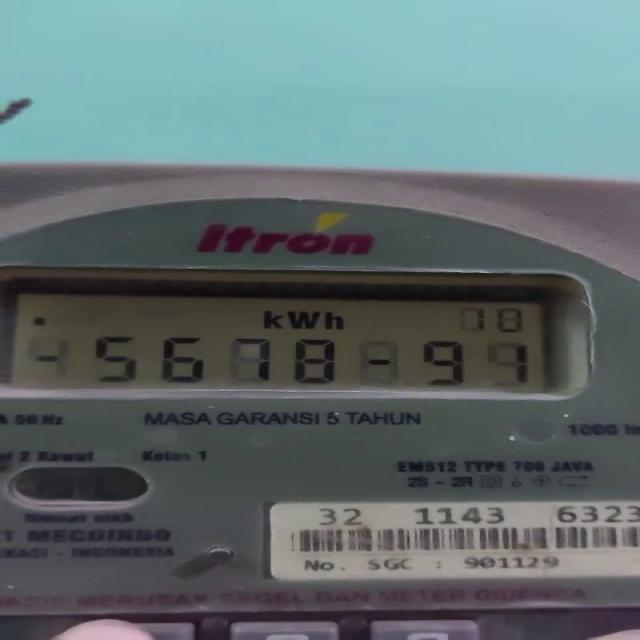LCD: (0, 254, 597, 407)
